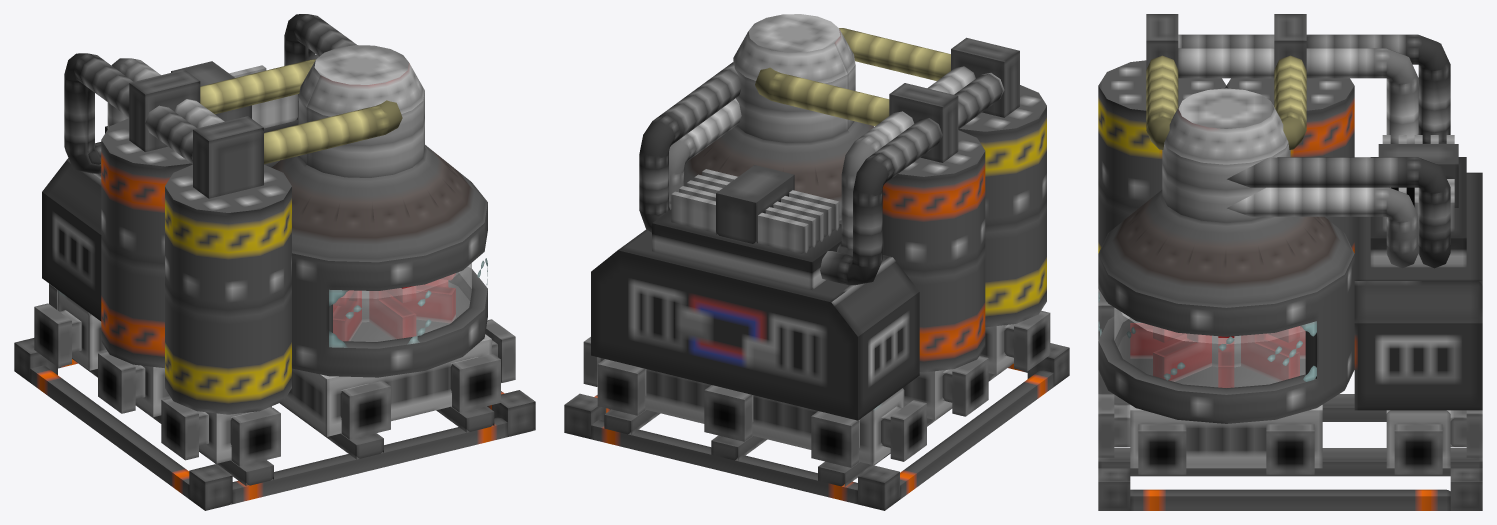
The model's file is machine_chemical_plant_processing.obj.
3 views of the same model, side by side, from view 1: azimuth 30°, elevation 25°; view 2: azimuth 150°, elevation 25°; view 3: azimuth 270°, elevation 25° (orthographic). The views are drawn at different scales.
Visible parts, largest first — view 1: Base, Fluid, Spinner, Slider; view 2: Base, Slider; view 3: Base, Fluid, Spinner, Slider.
Boxes of the visible parts, x1,y1,x2,y2 form: Base: (14,14,535,510); Fluid: (333,263,471,341); Spinner: (333,273,455,341); Slider: (171,61,251,121); Base: (564,14,1069,510); Slider: (716,165,794,243); Base: (1098,14,1482,510); Fluid: (1114,307,1305,387); Spinner: (1130,323,1305,387); Slider: (1378,144,1458,207).
Bounding box in the file's own units: 3 × 3 × 3.
